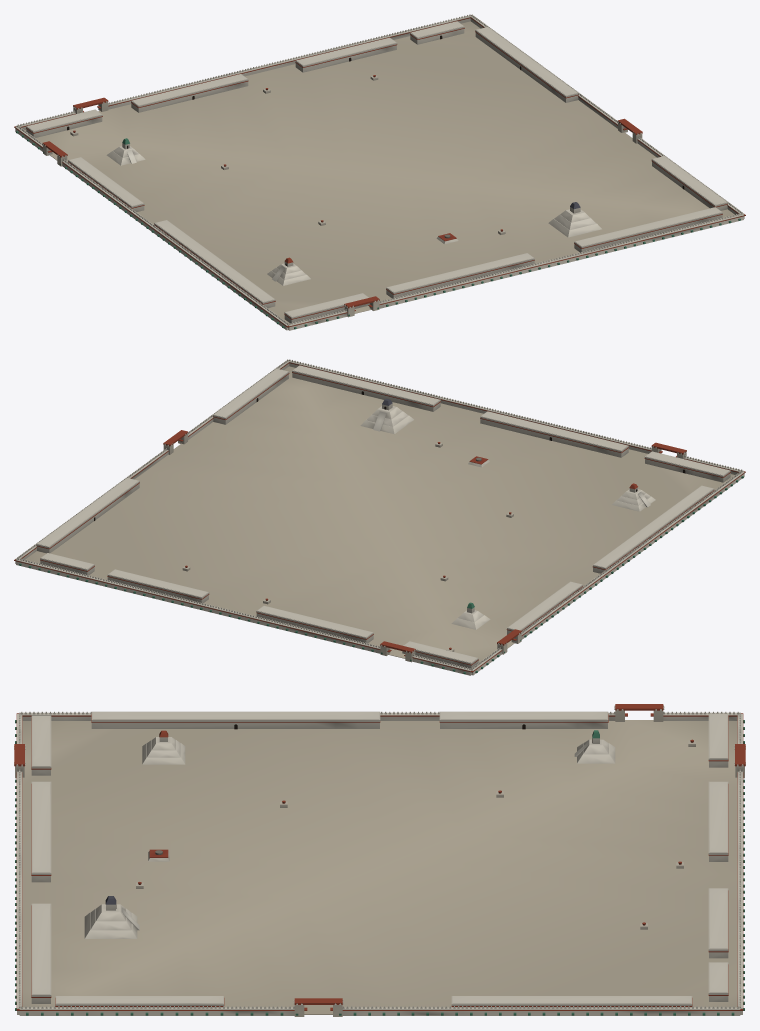
The model's file is sacred-precinct.glb.
3 views of the same model, one above another, from view 1: azimuth 30°, elevation 25°; view 2: azimuth 150°, elevation 25°; view 3: azimuth 270°, elevation 25° (orthographic). The views are drawn at different scales.
Parts seen in each view (by area): view 1: p0_paving, p2_temples, p1_coatepantli; view 2: p0_paving, p2_temples, p1_coatepantli; view 3: p0_paving, p2_temples, p1_coatepantli.
Boxes of the visible parts, x1,y1,x2,y2 form: p0_paving: (24, 21, 734, 323); p2_temples: (26, 21, 727, 323); p1_coatepantli: (14, 14, 745, 330); p0_paving: (25, 366, 735, 662); p2_temples: (36, 365, 730, 668); p1_coatepantli: (14, 359, 745, 675); p0_paving: (22, 720, 737, 1014); p2_temples: (14, 704, 745, 1016); p1_coatepantli: (15, 711, 744, 1015).
Size of the model in its own units: 295 by 14.34 by 305.
